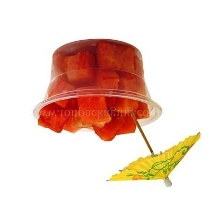glass: (21, 37, 173, 137)
